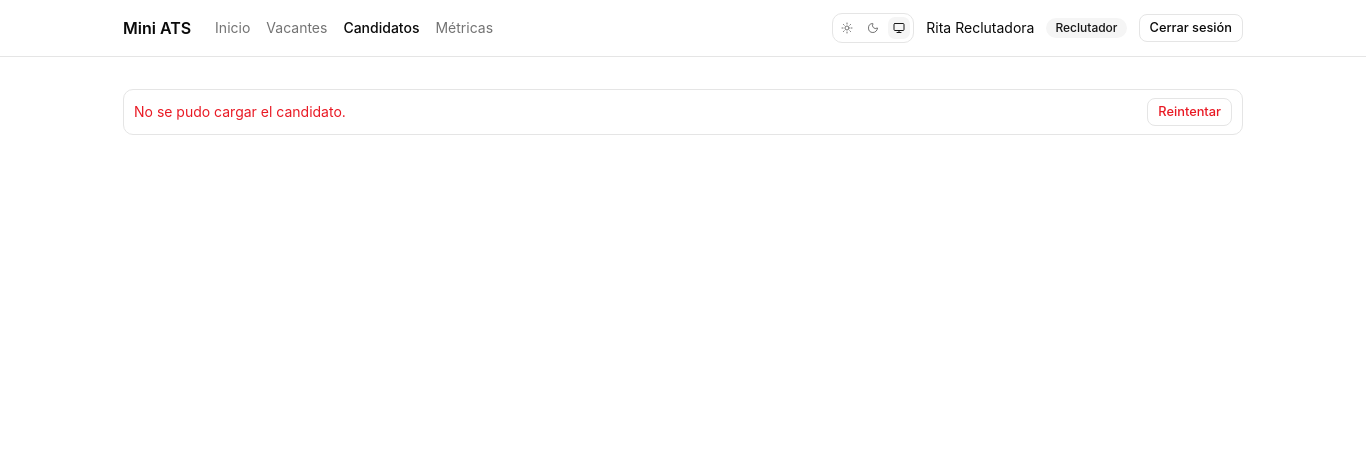
Test: CandidateDetailPage › retries after a load error
Expected: the text "No se pudo cargar el candidato." is shown, [134, 102, 346, 122]
Click the button "Reintentar": (1190, 112) [1147, 98, 1232, 126]
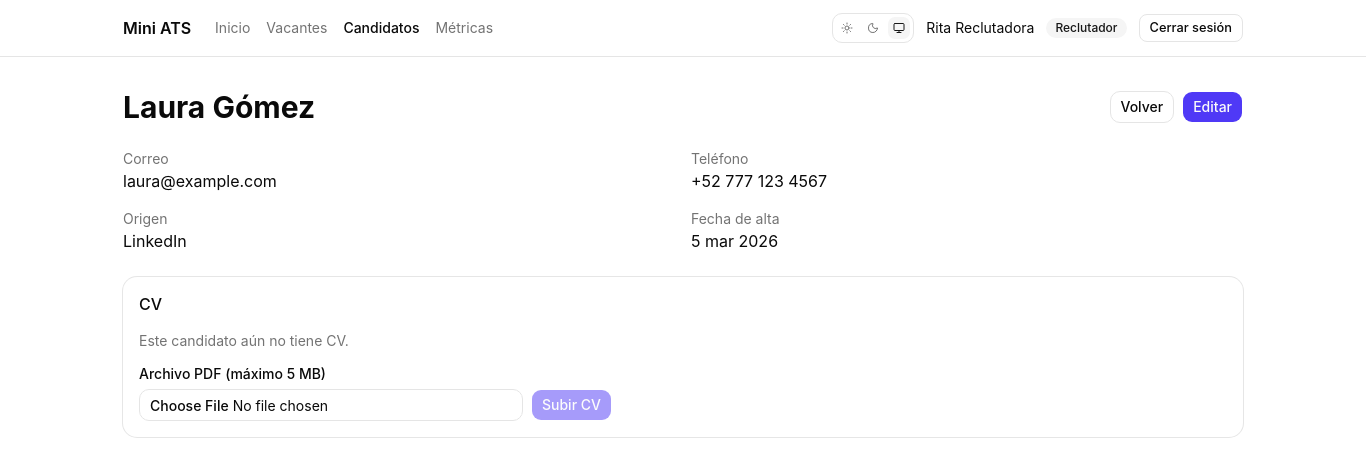
Expected: the heading "Laura Gómez" is shown, [123, 89, 315, 125]
